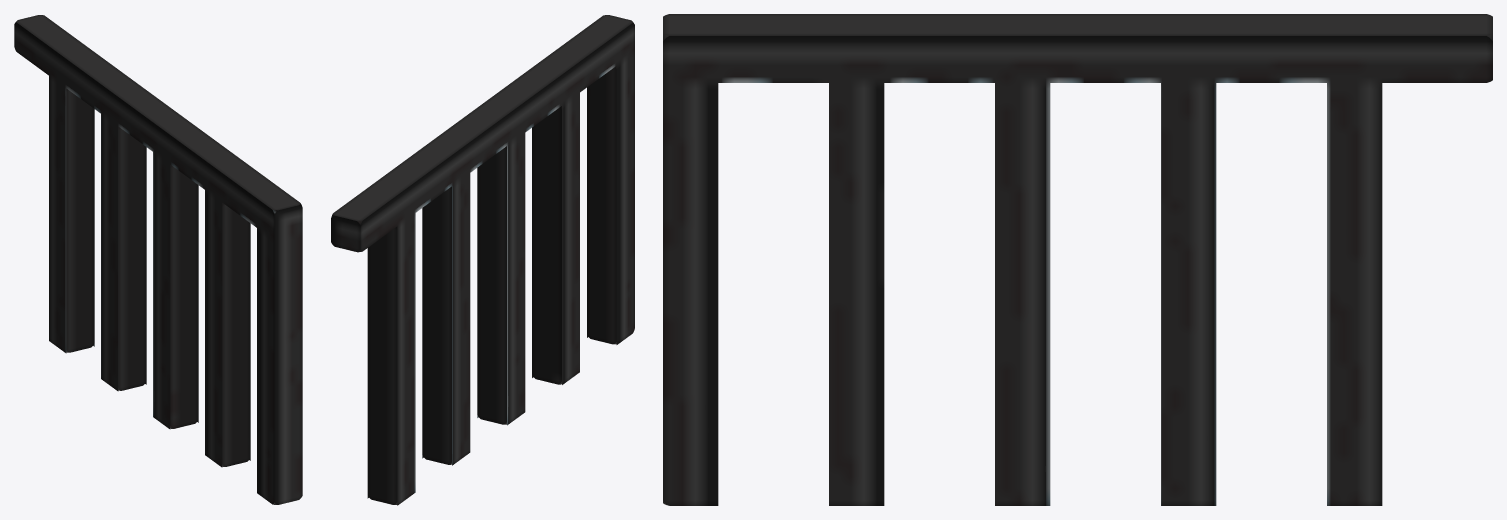
The model's file is BlackFence 1.fbx.
3 views of the same model, side by side, from view 1: azimuth 30°, elevation 25°; view 2: azimuth 150°, elevation 25°; view 3: azimuth 270°, elevation 25° (orthographic). The views are drawn at different scales.
Parts seen in each view (by area): view 1: plane; view 2: plane; view 3: plane.
Part boxes in pixels (x1,y1,x2,y2): plane: [14, 15, 302, 504]; plane: [331, 15, 634, 505]; plane: [663, 14, 1492, 505].
Bounding box in the file's own units: 6.25 × 62.5 × 100.
Materials: 1 (1 with a texture image).
